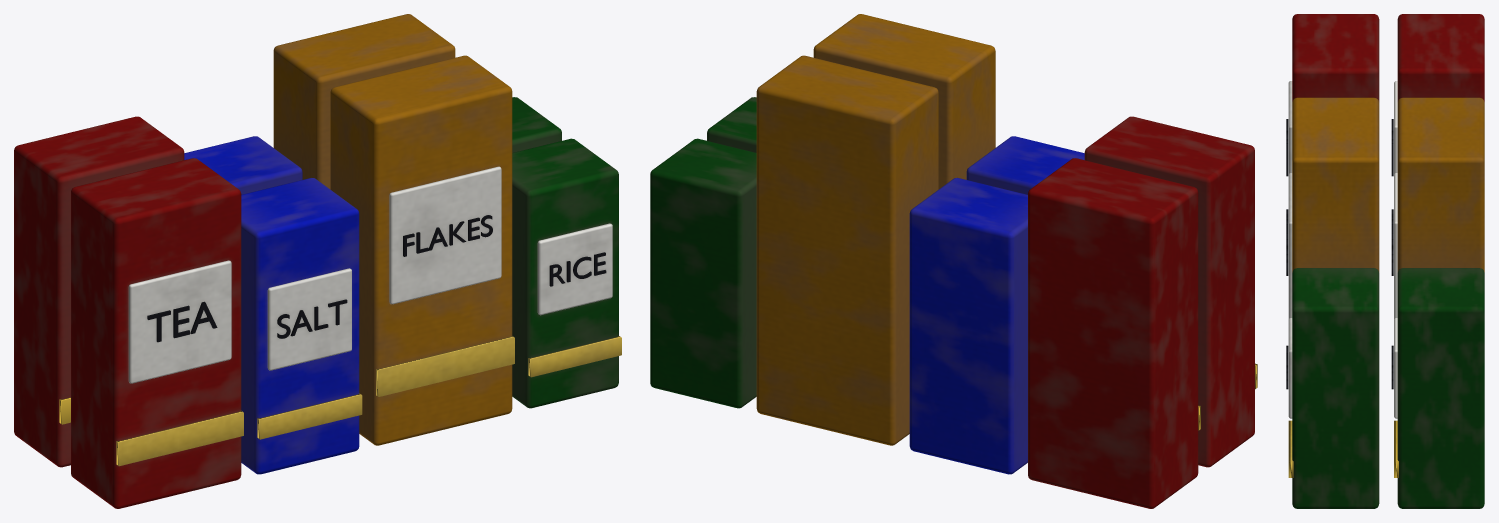
The model's file is sklep_polka_pudelka.glb.
The picture shows the model from 3 angles, left to right: view 1: azimuth 30°, elevation 25°; view 2: azimuth 150°, elevation 25°; view 3: azimuth 270°, elevation 25°; orthographic projection. The views are drawn at different scales.
Visible parts, largest first — view 1: Pudelka, Napisy; view 2: Pudelka; view 3: Pudelka, pudelko_t2_pole, Napisy, pudelko_t3_pole, pudelko_t0_pole, pudelko_t3_pas.
Boxes of the visible parts, <box> form: Pudelka: <box>14,14,621,508</box>; Napisy: <box>147,215,606,342</box>; Pudelka: <box>650,14,1257,508</box>; Pudelka: <box>1288,14,1484,508</box>; pudelko_t2_pole: <box>1394,173,1397,319</box>; Napisy: <box>1286,119,1288,389</box>; pudelko_t3_pole: <box>1394,318,1397,418</box>; pudelko_t0_pole: <box>1394,81,1397,174</box>; pudelko_t3_pas: <box>1394,420,1398,477</box>.
Bounding box in the file's own units: 0.436 × 0.27 × 0.1598.
4 materials, 1 textured.
